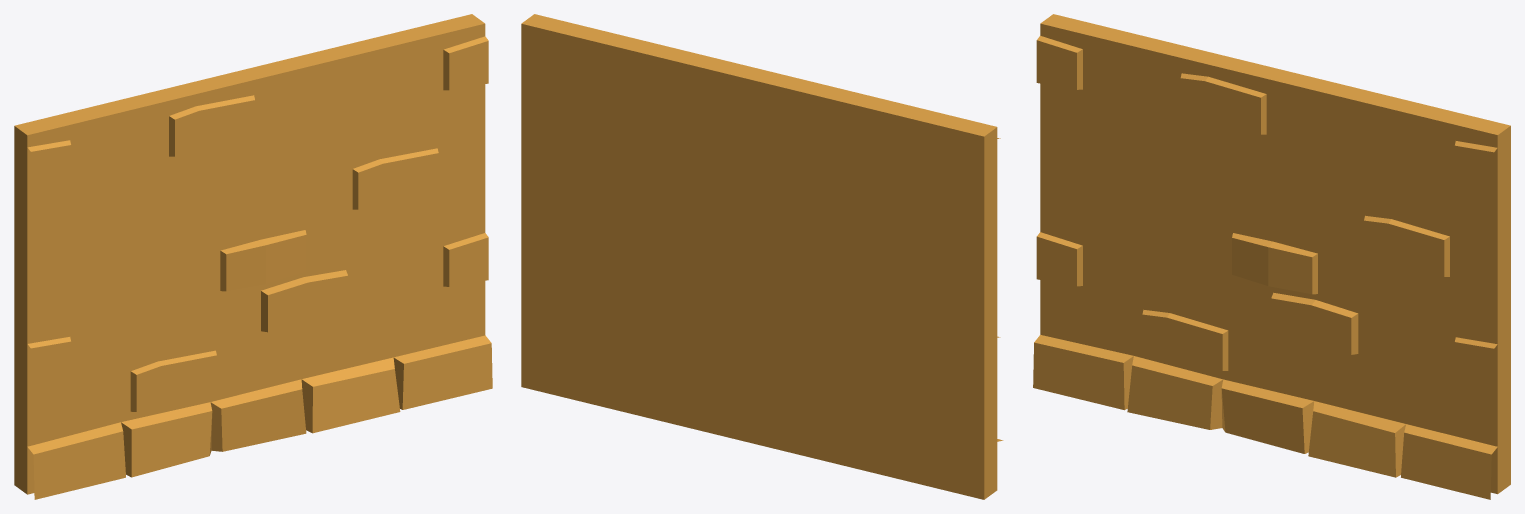
Rendered from fantasy-dungeon-wall-stone.glb.
The picture shows the model from 3 angles, left to right: view 1: azimuth 30°, elevation 25°; view 2: azimuth 150°, elevation 25°; view 3: azimuth 330°, elevation 25°; orthographic projection.
Parts seen in each view (by area): view 1: dungeon-wall-stone; view 2: dungeon-wall-stone; view 3: dungeon-wall-stone.
Part boxes in pixels (x1,y1,x2,y2): dungeon-wall-stone: (14,14,492,499); dungeon-wall-stone: (521,14,1003,499); dungeon-wall-stone: (1033,14,1510,499).
Size of the model in its own units: 4 by 3 by 0.3266.
